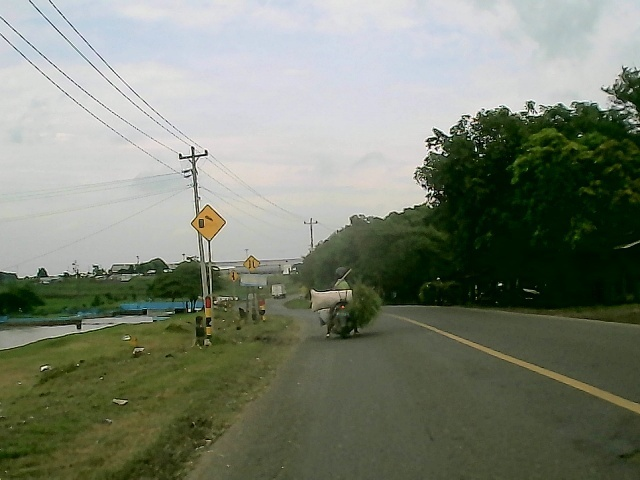Jembatan: (241, 255, 262, 274)
Peringatan tepi air: (191, 203, 226, 242)
